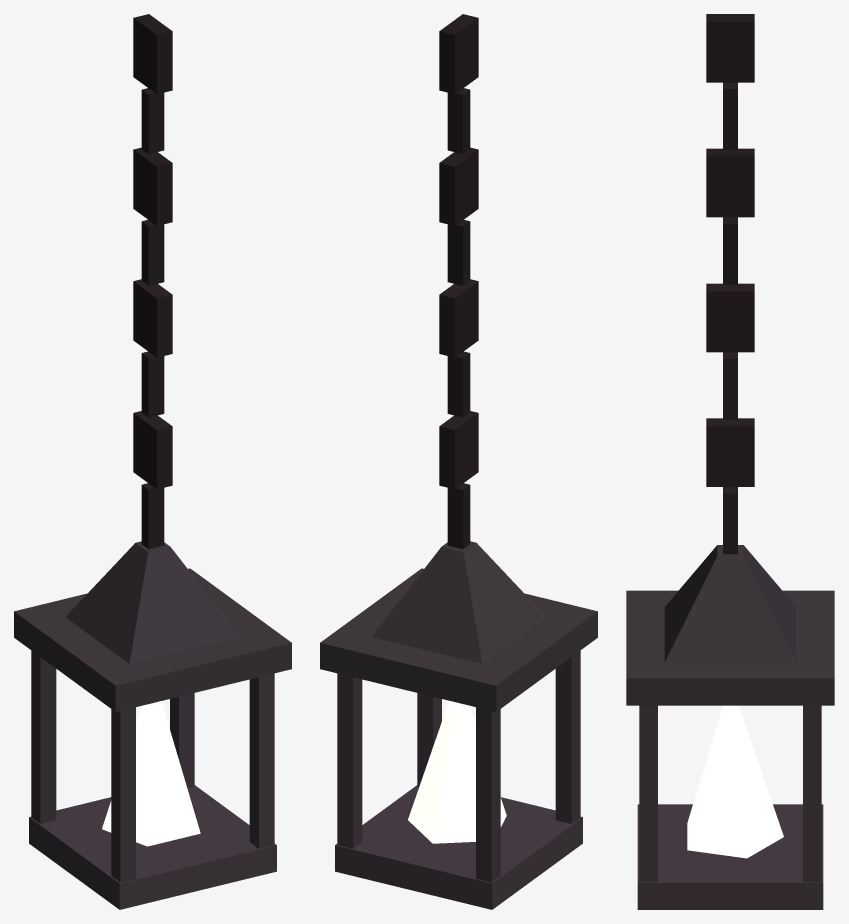
The model's file is lamp_hanging.glb.
3 renders of one model, left to right at view 1: azimuth 30°, elevation 25°; view 2: azimuth 150°, elevation 25°; view 3: azimuth 270°, elevation 25°, orthographic. The views are drawn at different scales.
Parts seen in each view (by area): view 1: lamp_hanging, Flame; view 2: lamp_hanging, Flame; view 3: lamp_hanging, Flame.
Part boxes in pixels (x1,y1,x2,y2): lamp_hanging: [14, 14, 291, 909]; Flame: [102, 701, 200, 846]; lamp_hanging: [320, 14, 597, 909]; Flame: [408, 700, 506, 843]; lamp_hanging: [626, 14, 834, 909]; Flame: [687, 705, 783, 858].
Bounding box in the file's own units: 0.56 × 2.53 × 0.56.
